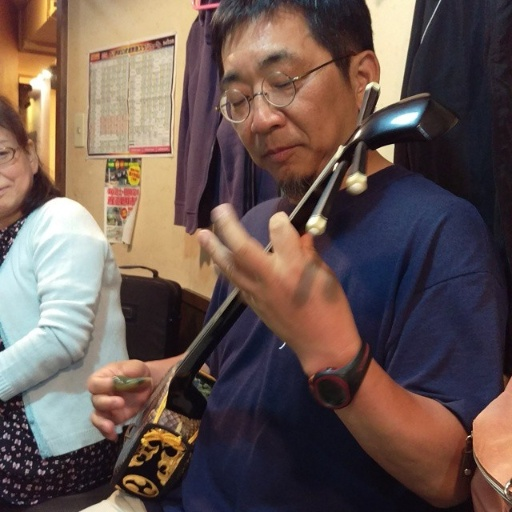hand: (195, 201, 355, 368), (68, 363, 153, 423)
